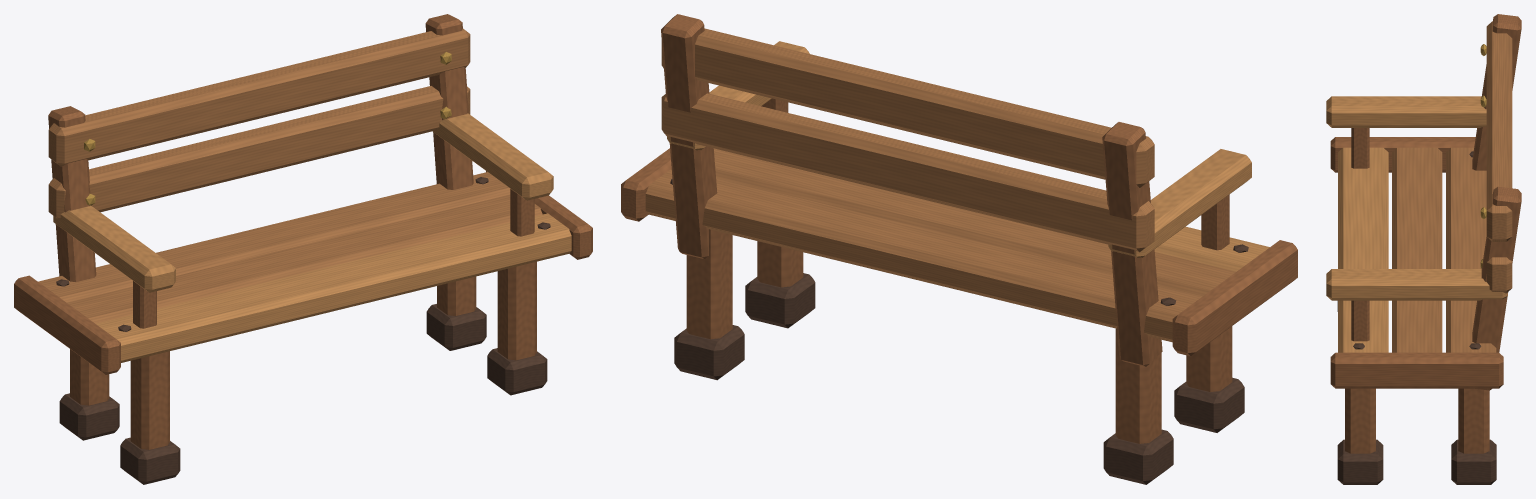
File: bench_garden.glb
The picture shows the model from 3 angles, left to right: view 1: azimuth 30°, elevation 25°; view 2: azimuth 150°, elevation 25°; view 3: azimuth 270°, elevation 25°; orthographic projection. The views are drawn at different scales.
Parts seen in each view (by area): view 1: bench_garden; view 2: bench_garden; view 3: bench_garden.
Part boxes in pixels (<box>): bench_garden: <box>14,14,592,484</box>; bench_garden: <box>621,14,1297,484</box>; bench_garden: <box>1326,14,1521,484</box>.
Size of the model in its own units: 1.87 by 1.12 by 0.6877.
1 material, 1 textured.
